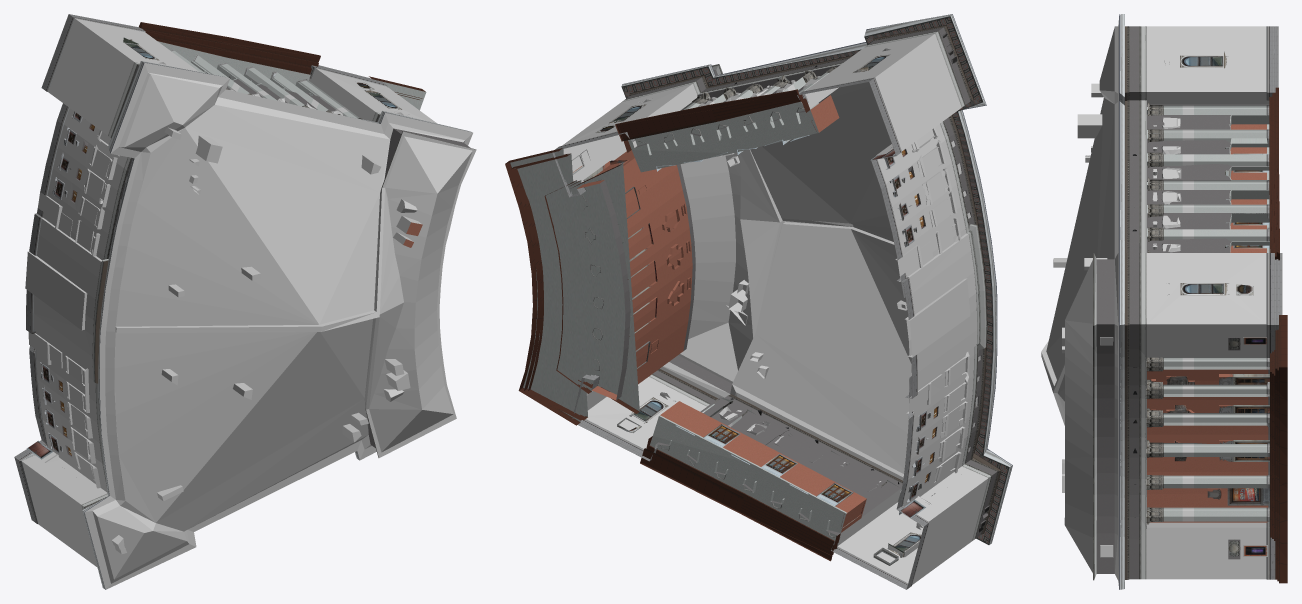
Rendered from Vana-Posti_tn_8-origo.obj.
The picture shows the model from 3 angles, left to right: view 1: azimuth 30°, elevation 25°; view 2: azimuth 150°, elevation 25°; view 3: azimuth 270°, elevation 25°; orthographic projection.
Parts seen in each view (by area): view 1: Vana_Posti_tn_8; view 2: Vana_Posti_tn_8; view 3: Vana_Posti_tn_8.
Part boxes in pixels (x1,y1,x2,y2): Vana_Posti_tn_8: [14, 14, 476, 589]; Vana_Posti_tn_8: [505, 14, 1012, 589]; Vana_Posti_tn_8: [1041, 14, 1287, 589].
Bounding box in the file's own units: 42.62 × 50 × 21.55.
